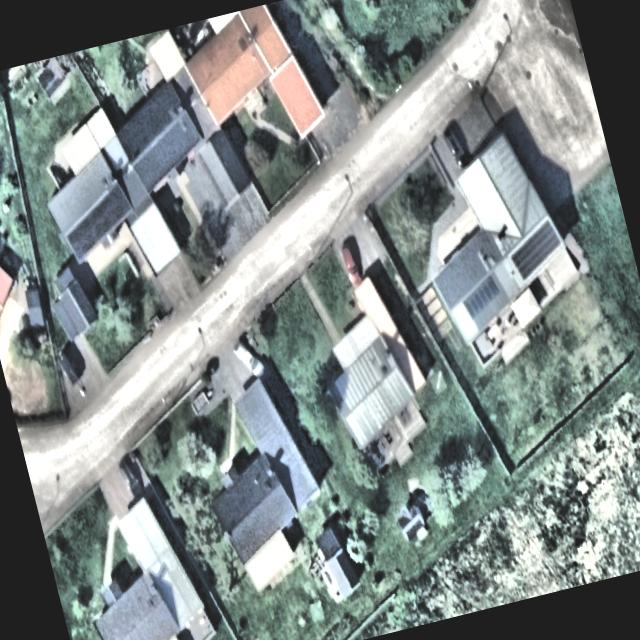roof_pv: (504, 218, 568, 282), (458, 274, 506, 318)
